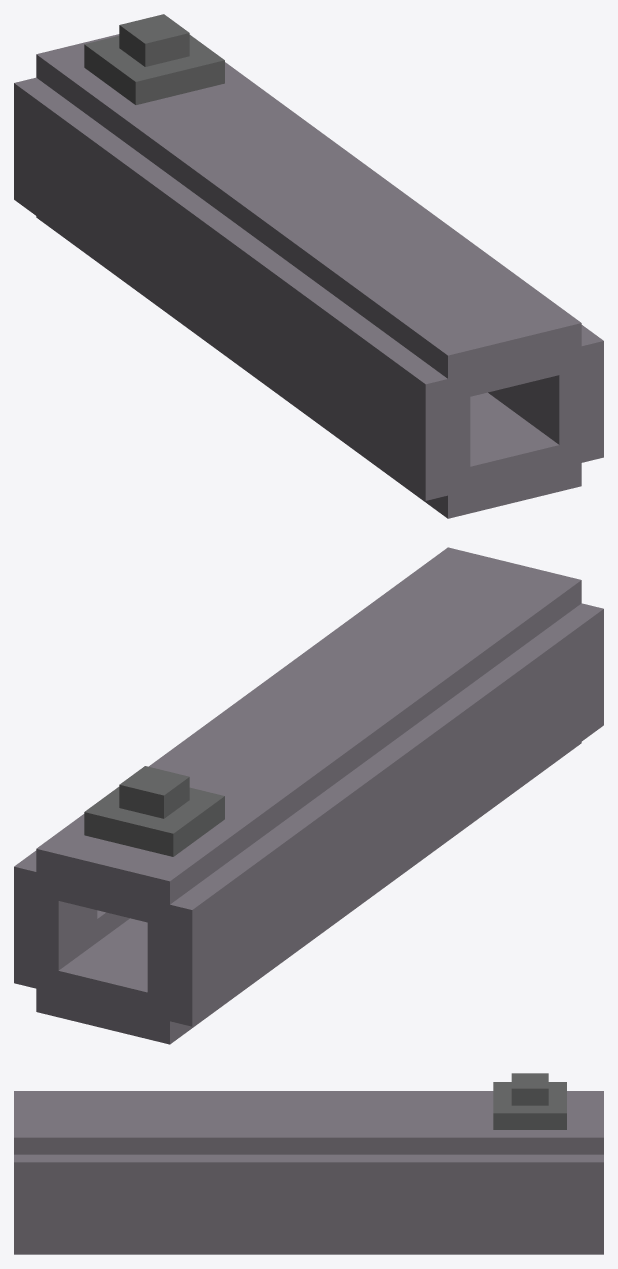
File: cannon_barrel.obj
3 views of the same model, one above another, from view 1: azimuth 30°, elevation 25°; view 2: azimuth 150°, elevation 25°; view 3: azimuth 270°, elevation 25° (orthographic). The views are drawn at different scales.
Bounding box in the file's own units: 0.8 × 0.9 × 3.2.
Materials: 1 (1 with a texture image).
